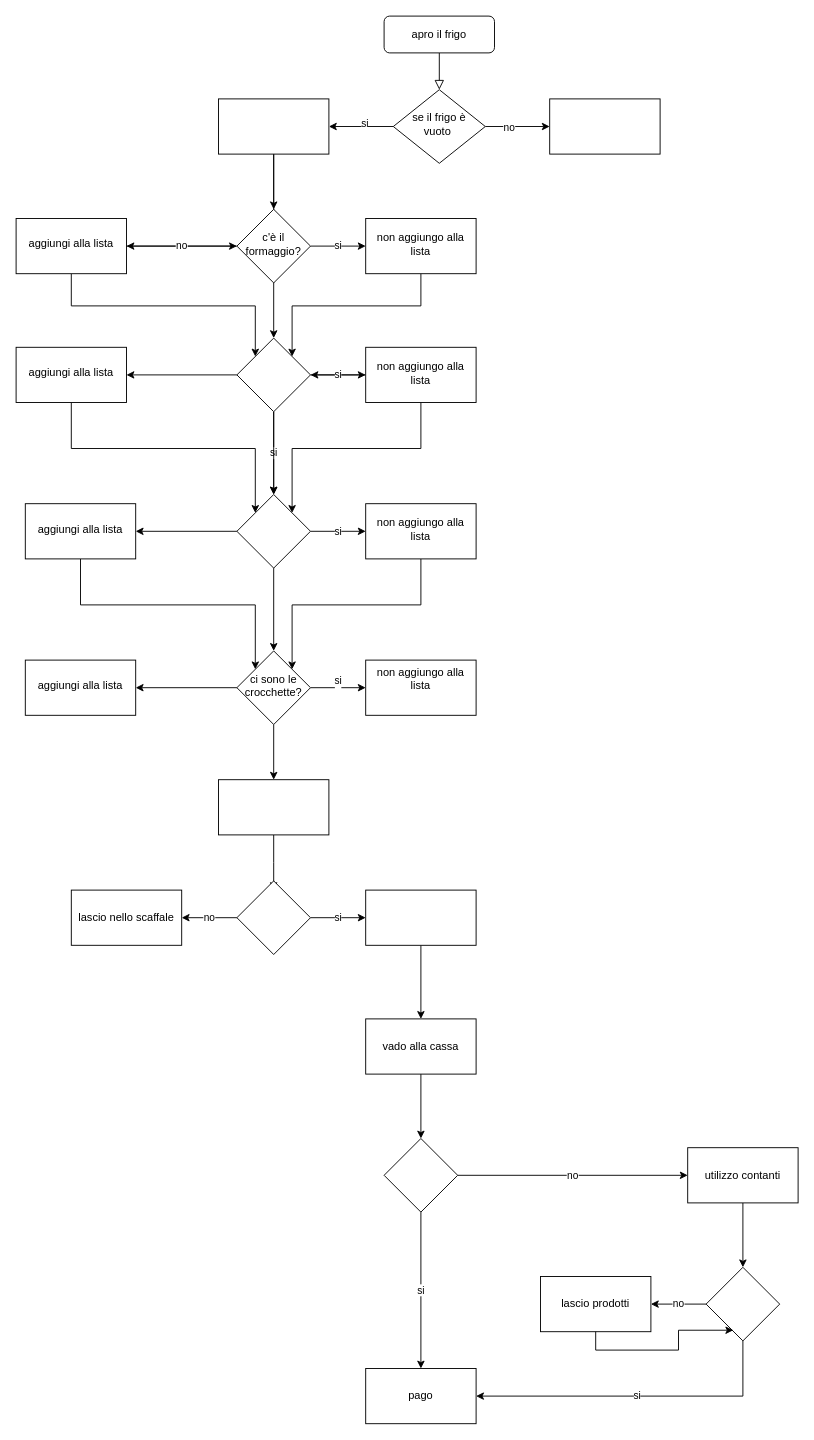
The diagram is 814 pixels wide and 1440 high, and some of its shapes have lost their labels. Each missing label, with the centre of its shape:
"c'è il latte?" belongs at (x=273, y=374).
"c'è la cioccolata?" belongs at (x=273, y=531).
"coupon sufficienti?" belongs at (x=420, y=1175).
"faccio la lista" belongs at (x=273, y=126).
"lo metto nel carrello" belongs at (x=420, y=917).
"non vado a fare spesa" belongs at (x=604, y=126).
"prodotto nella lista?" belongs at (x=273, y=917).
"sono sufficenti?" belongs at (x=742, y=1303).
"vado al supermercato" belongs at (x=273, y=807).
